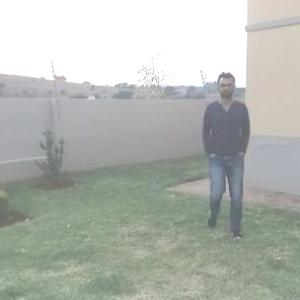follow: (200, 68, 254, 230)
